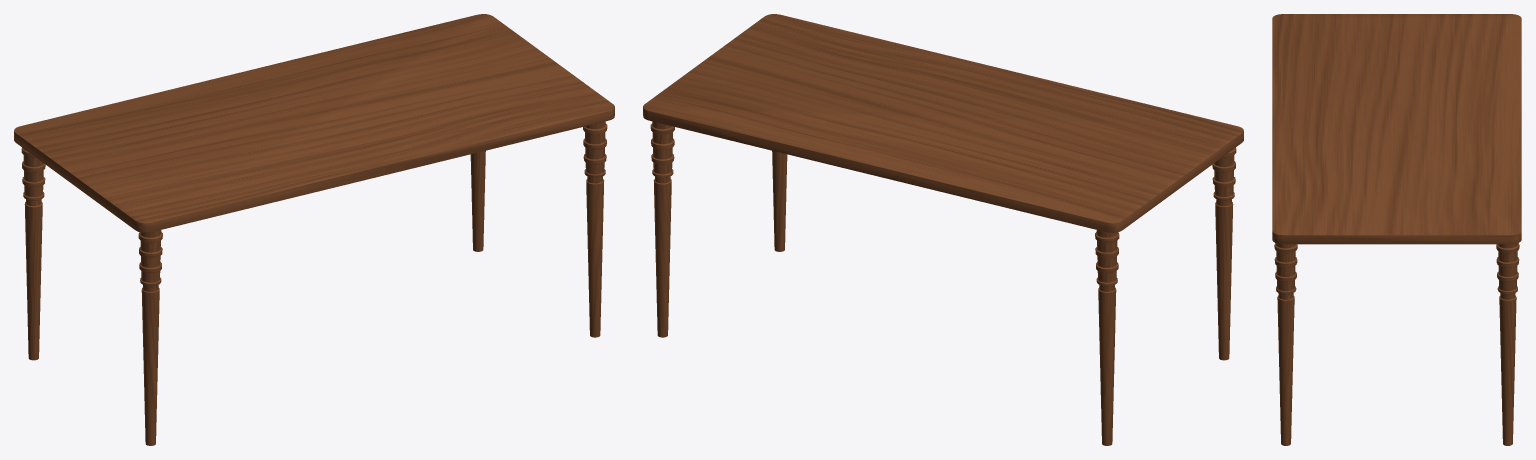
File: M_Furniture_002.fbx
3 renders of one model, left to right at view 1: azimuth 30°, elevation 25°; view 2: azimuth 150°, elevation 25°; view 3: azimuth 270°, elevation 25°, orthographic. The views are drawn at different scales.
Parts seen in each view (by area): view 1: M_Furniture_002; view 2: M_Furniture_002; view 3: M_Furniture_002.
Boxes of the visible parts, x1,y1,x2,y2 form: M_Furniture_002: (14, 14, 614, 445); M_Furniture_002: (643, 14, 1243, 445); M_Furniture_002: (1272, 14, 1521, 445).
Size of the model in its own units: 237 by 108 by 113.
